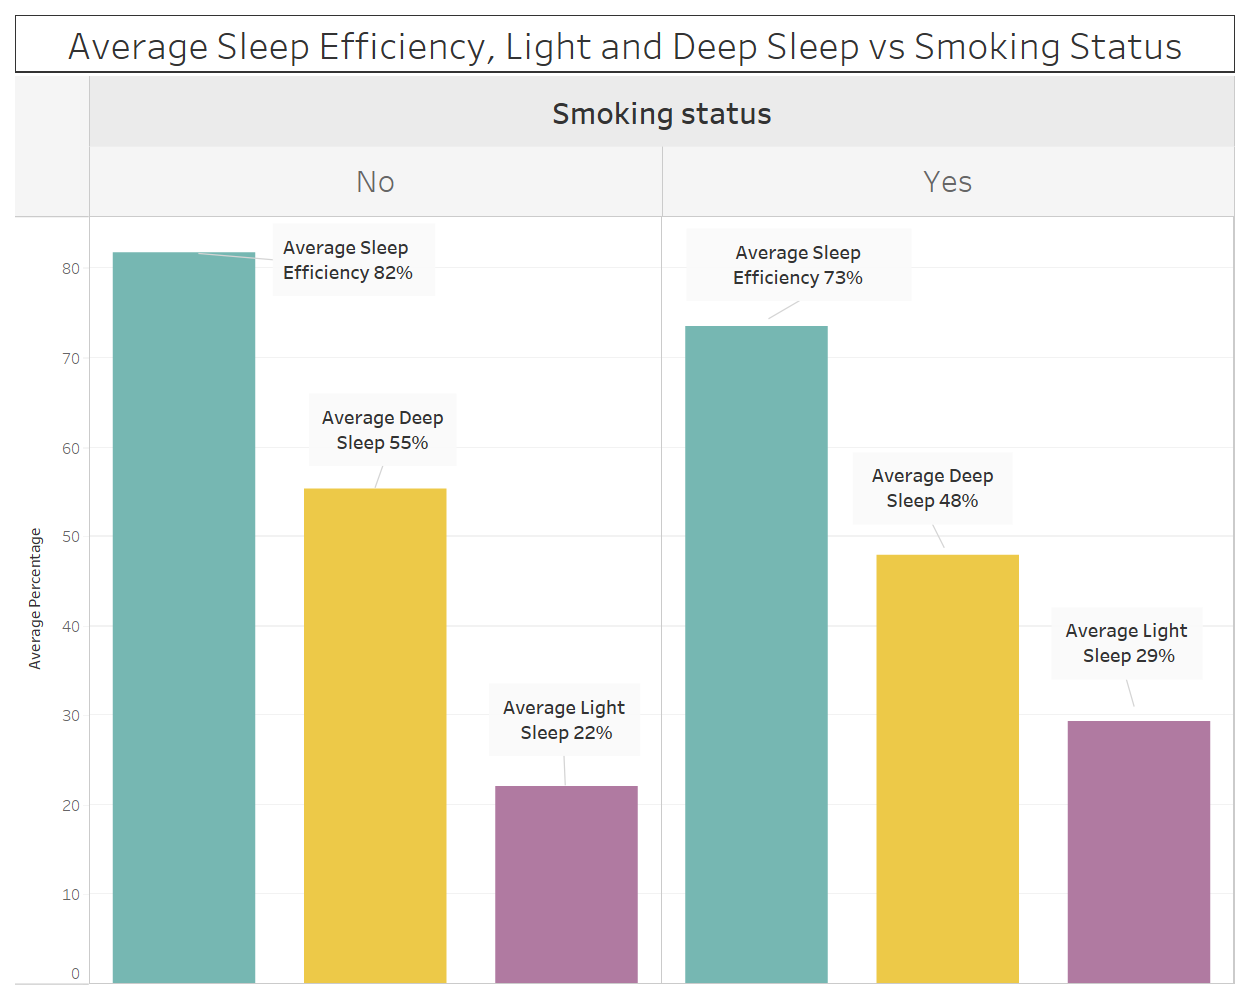

Layout of this report page (visuals, bound fields, positions):
{"tool":"tableau","page":{"name":"Smoking Dashboard1","canvas":[1000,800],"ordinal":4},"visuals":[{"type":"worksheet","title":"Sheet 1 (2)","mark":"Automatic","cols":["Smoking_status"],"box":[8,8,984,784]}]}

Visuals, with their boxes in screenshot pixels (x1, y1, x2, y2), scaled from the page's 1000x800 canvas onto the 1250x1000 screenshot:
"Sheet 1 (2)" worksheet: 10 10 1240 990
